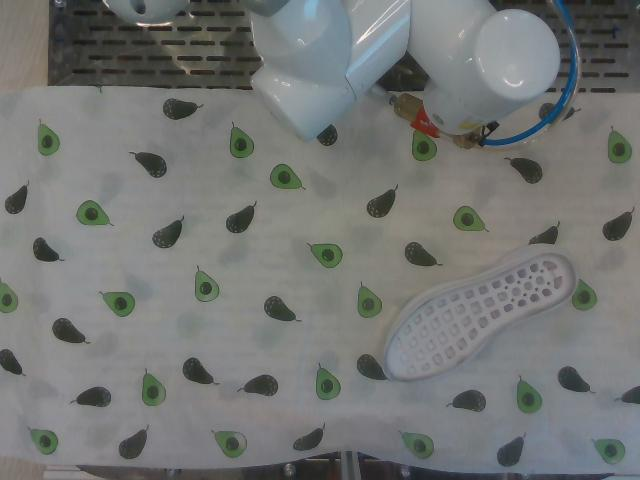shoes: (383, 253, 576, 381)
